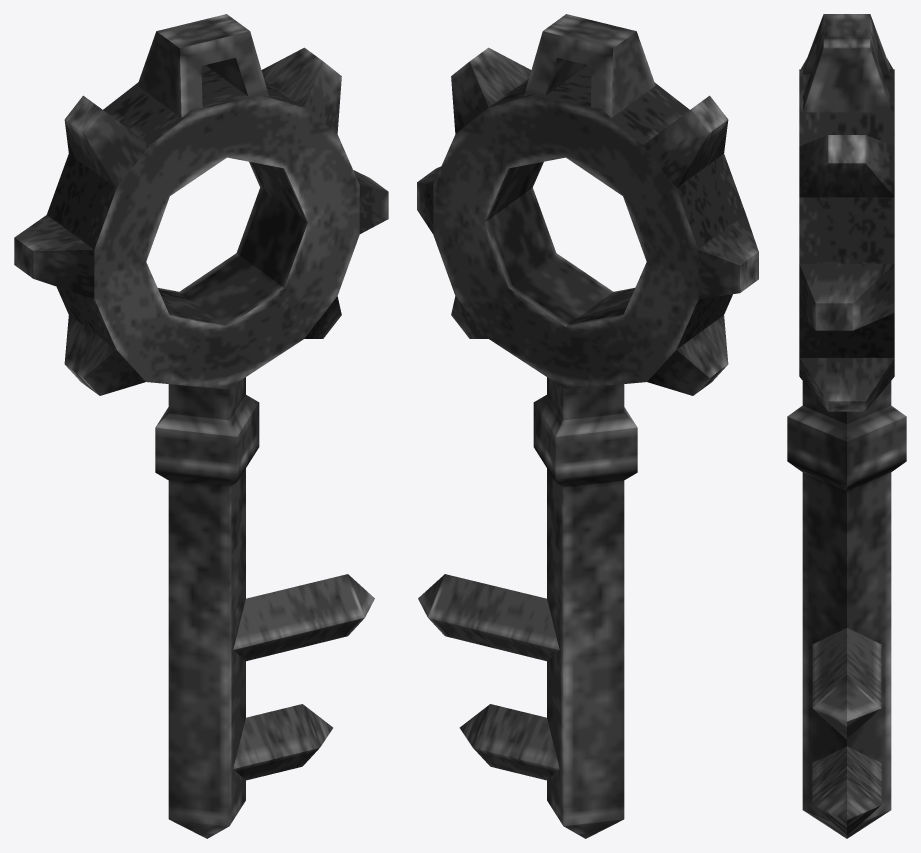
The model's file is Key.obj.
3 views of the same model, side by side, from view 1: azimuth 30°, elevation 25°; view 2: azimuth 150°, elevation 25°; view 3: azimuth 270°, elevation 25° (orthographic).
Size of the model in its own units: 2.37 by 5.37 by 0.7208.
